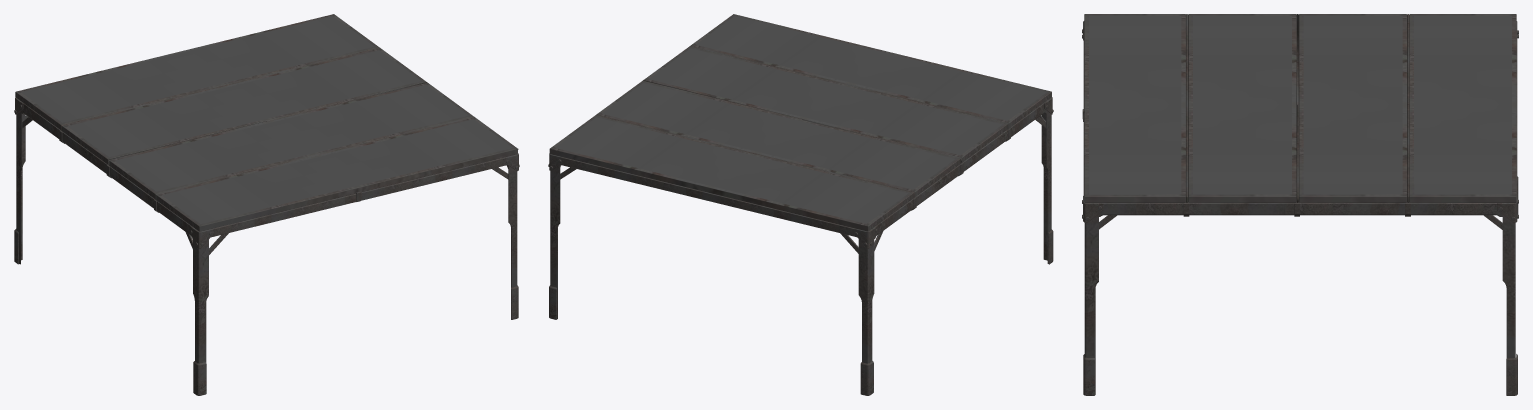
Rendered from shelt.glb.
The picture shows the model from 3 angles, left to right: view 1: azimuth 30°, elevation 25°; view 2: azimuth 150°, elevation 25°; view 3: azimuth 270°, elevation 25°; orthographic projection. The views are drawn at different scales.
Parts seen in each view (by area): view 1: SM_SV_Shelter_Stage5_Nanite; view 2: SM_SV_Shelter_Stage5_Nanite; view 3: SM_SV_Shelter_Stage5_Nanite.
Part boxes in pixels (x1,y1,x2,y2): SM_SV_Shelter_Stage5_Nanite: (14,14,519,395); SM_SV_Shelter_Stage5_Nanite: (548,14,1053,395); SM_SV_Shelter_Stage5_Nanite: (1082,14,1518,395).
Size of the model in its own units: 9.13 by 4.59 by 9.12.
Materials: 1 (1 with a texture image).
